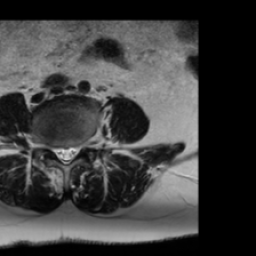CCS_stenosis: (62, 135, 70, 172)
LFS_stenosis: (78, 131, 86, 158)
LLS_normal: (70, 136, 78, 166)
RFS_stenosis: (46, 134, 54, 160)
RLS_normal: (54, 136, 62, 167)
